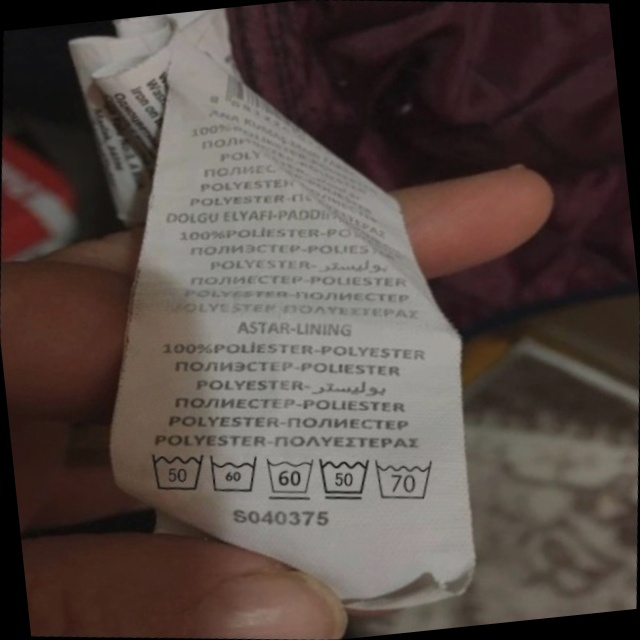50C: (139, 437, 215, 504), (310, 446, 380, 511)
60C: (258, 446, 325, 508), (201, 444, 268, 505)
70C: (369, 448, 445, 511)
